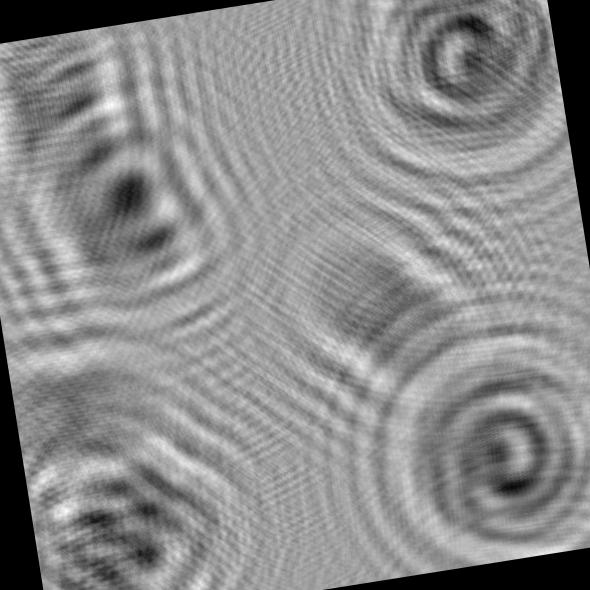F: (0, 60, 291, 366)
G: (357, 301, 590, 578), (311, 0, 575, 212)
H: (22, 426, 262, 590)
I: (246, 168, 554, 462), (2, 294, 244, 523), (0, 17, 194, 247)
